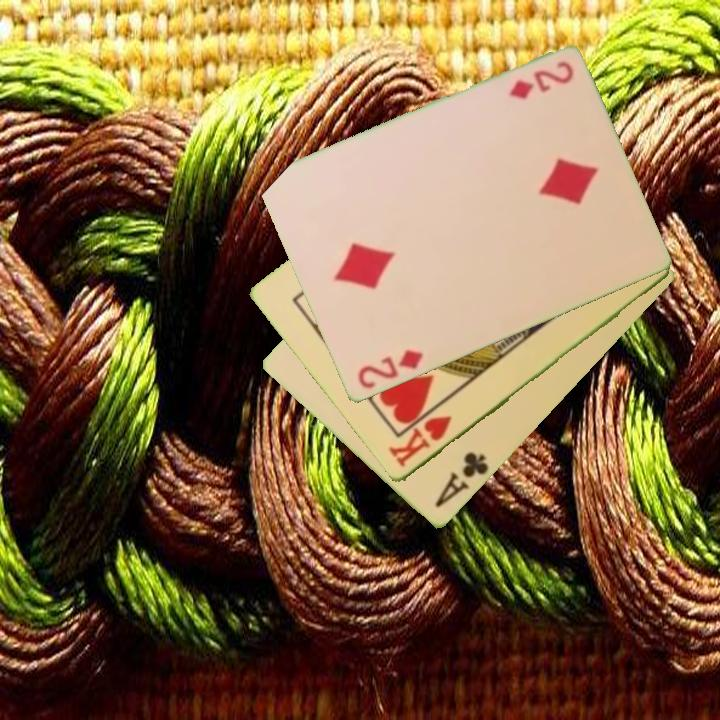2d: (354, 346, 426, 393), (505, 58, 577, 103)
Ac: (431, 448, 492, 511)
Kh: (385, 412, 455, 471)
